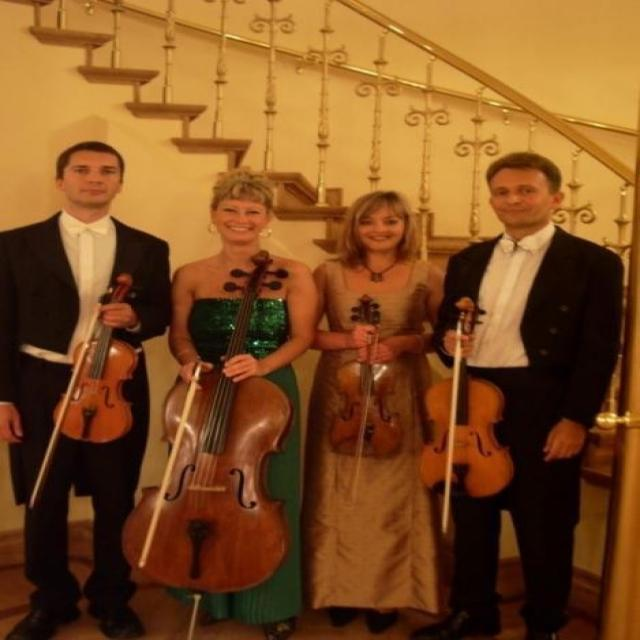cello: (119, 249, 294, 597)
violin: (418, 297, 512, 496), (54, 272, 142, 445), (325, 291, 404, 460)
